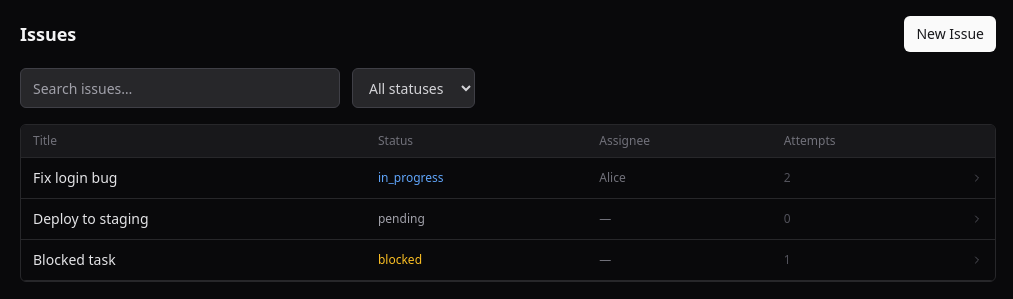
Test case: Issues search filtering › search input filters issues by title (case insensitive match)
The width and height of the screenshot is (1013, 299).
Expected: the text "Fix login bug" is shown, [21,158,366,198]
Type "login" into the field with placeholder "Search issues…".
click(180, 88); type("login")  # box [20,68,340,108]
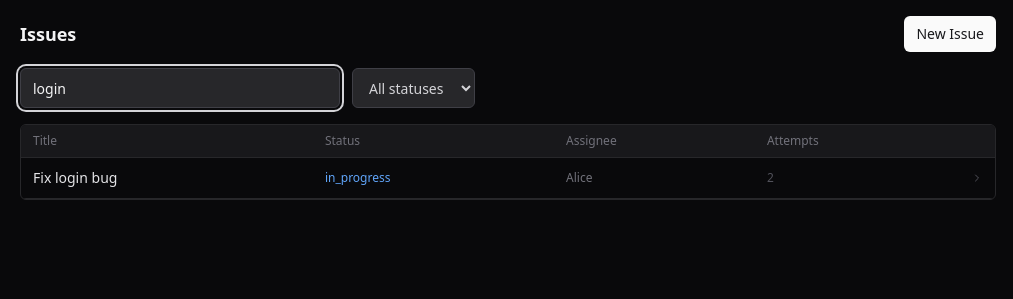
Expected: the text "Fix login bug" is shown, [21,158,313,198]
Expected: the text "Deploy to staging" is gone
